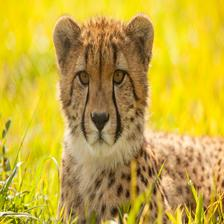Cheetah: (46, 13, 224, 222)
